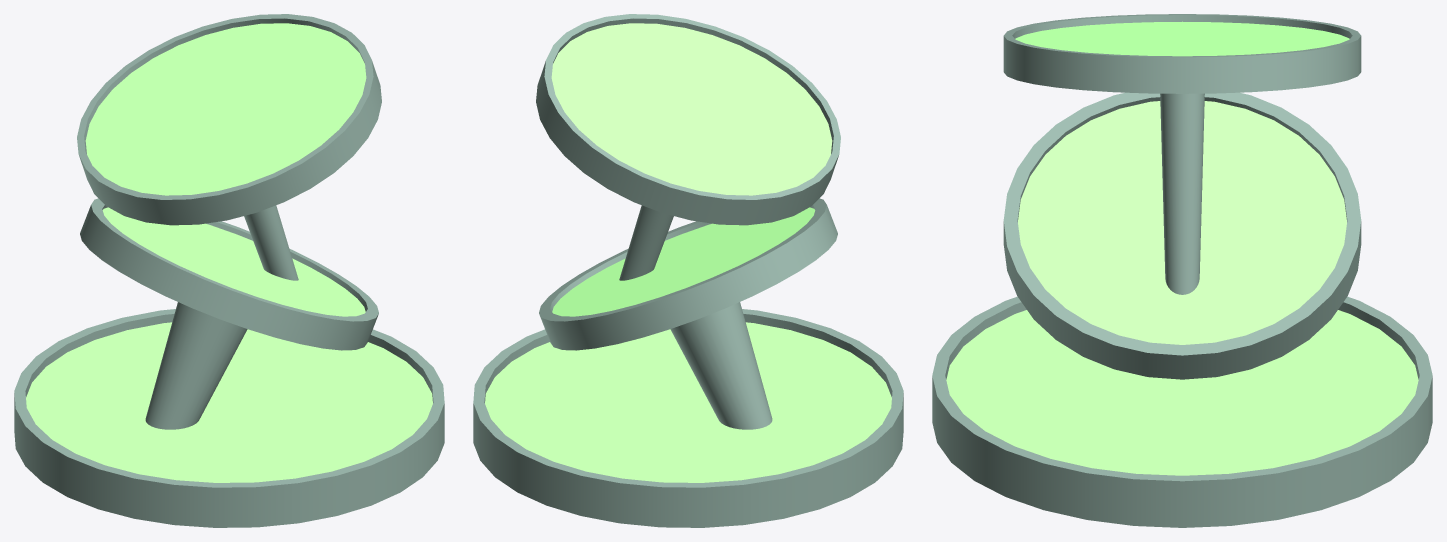
File: Tech4.fbx
The picture shows the model from 3 angles, left to right: view 1: azimuth 30°, elevation 25°; view 2: azimuth 150°, elevation 25°; view 3: azimuth 270°, elevation 25°; orthographic projection. The views are drawn at different scales.
Visible parts, largest first — view 1: Tech4; view 2: Tech4; view 3: Tech4.
Part boxes in pixels (x1,y1,x2,y2): Tech4: [14, 14, 444, 527]; Tech4: [473, 14, 903, 527]; Tech4: [932, 14, 1432, 527].
Bounding box in the file's own units: 459 × 439 × 459.
